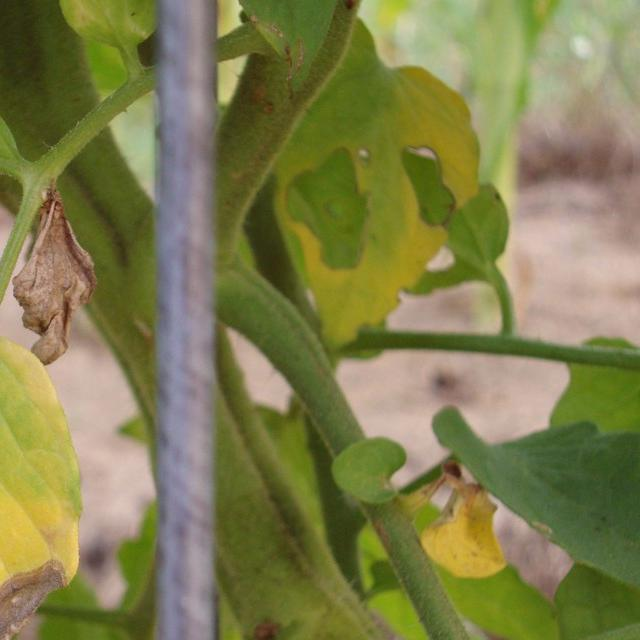Tomato Early blight leaf: (0, 326, 89, 640)
